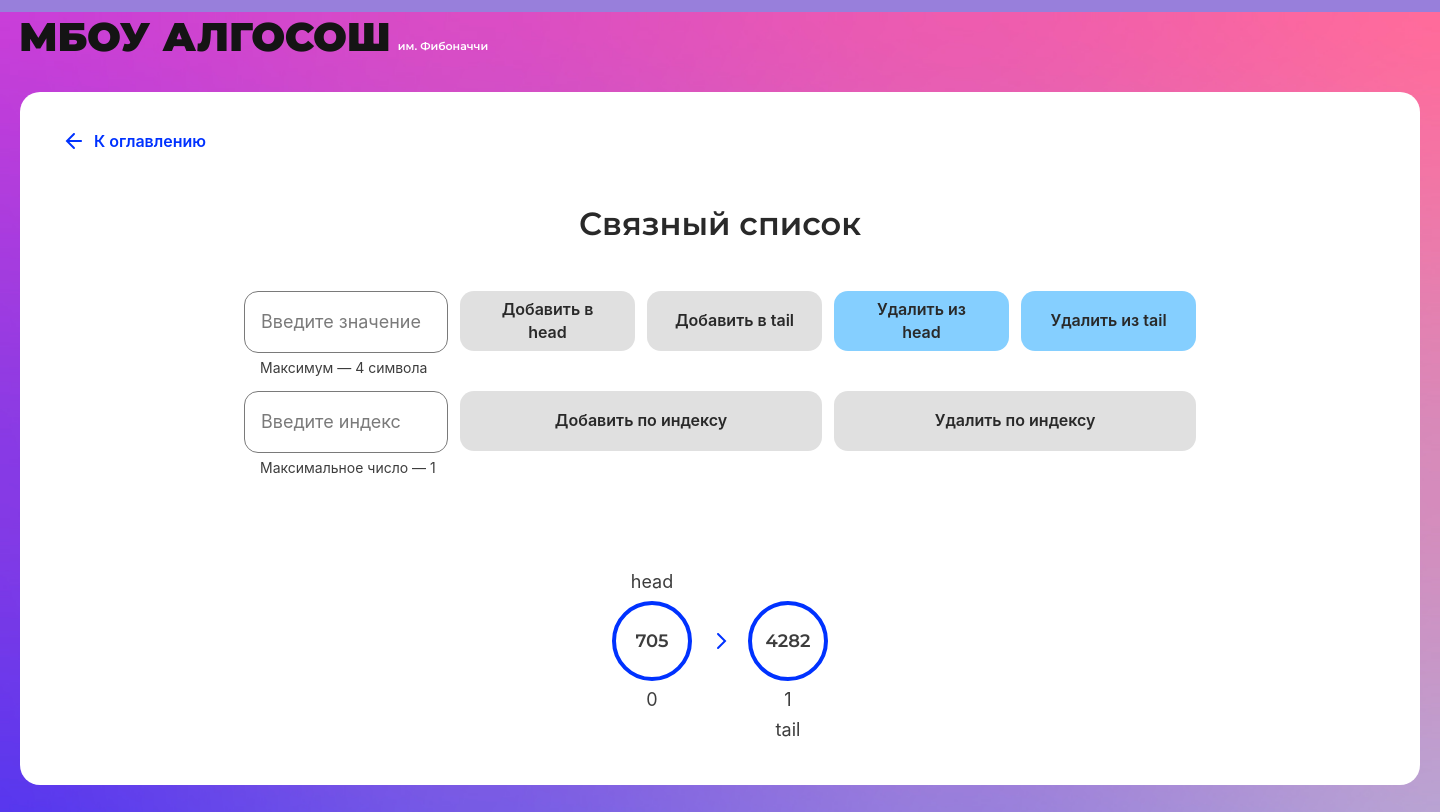
page open correctly › should del element to index correctly
Type "1" into the number field with placeholder "Введите индекс".
click(346, 422); type("1")  # box [244,391,448,453]
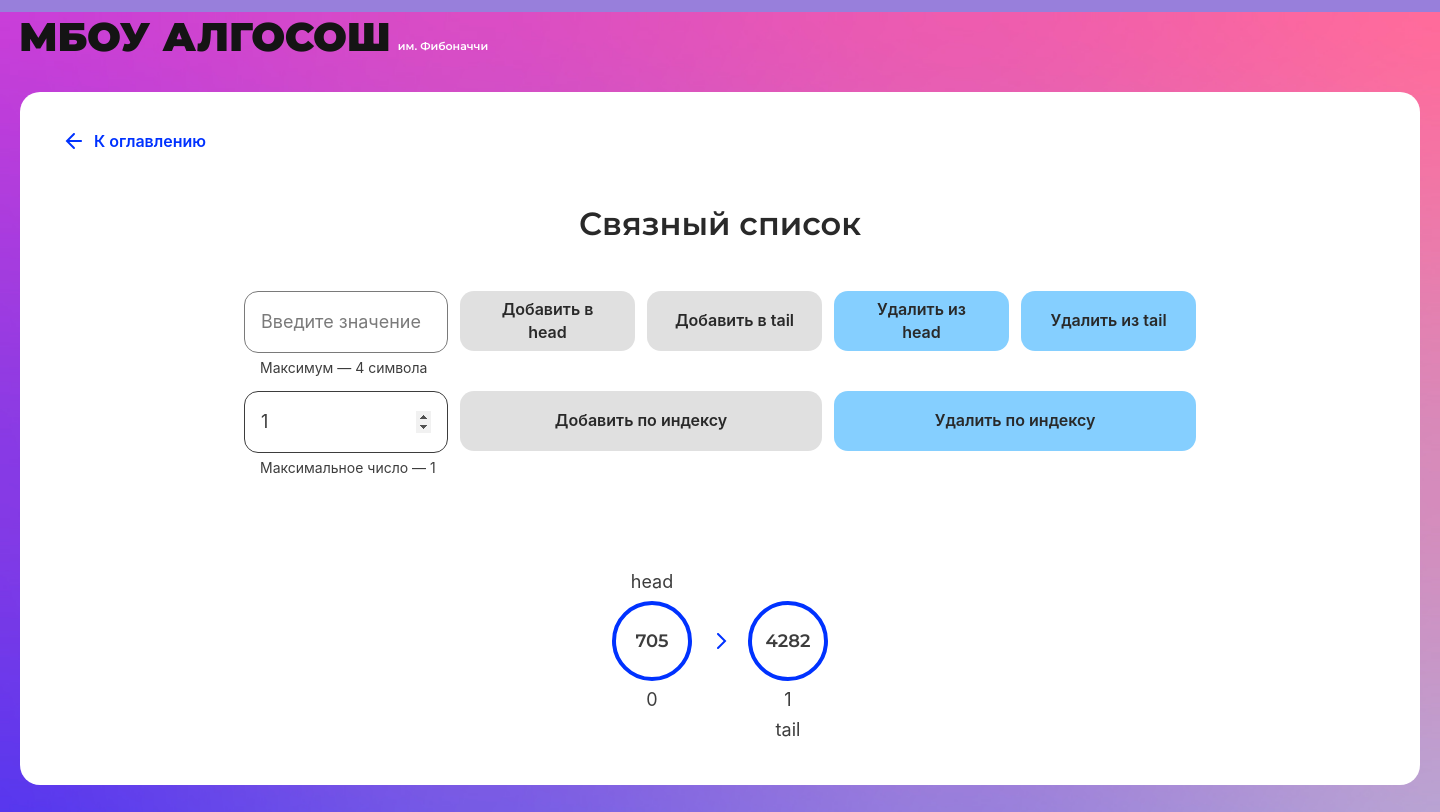
Expected: the button is enabled
Click the button "Удалить по индексу".
click(1015, 421)  # box [834,391,1196,451]
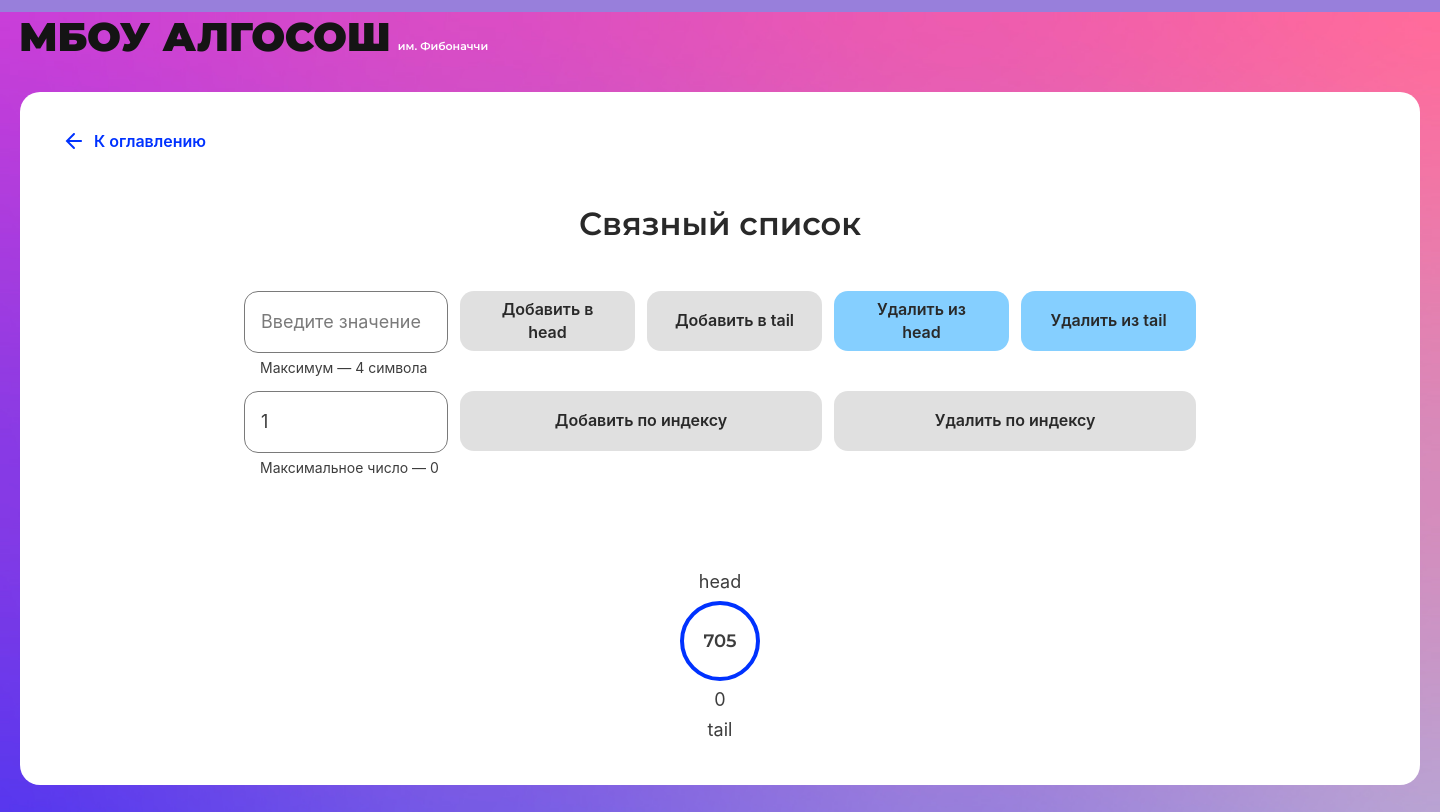
Expected: the text with test id "head" reads "head", [699,571,742,593]
Now the number of elements with test id "border" is 1, box [680,601,760,681]
